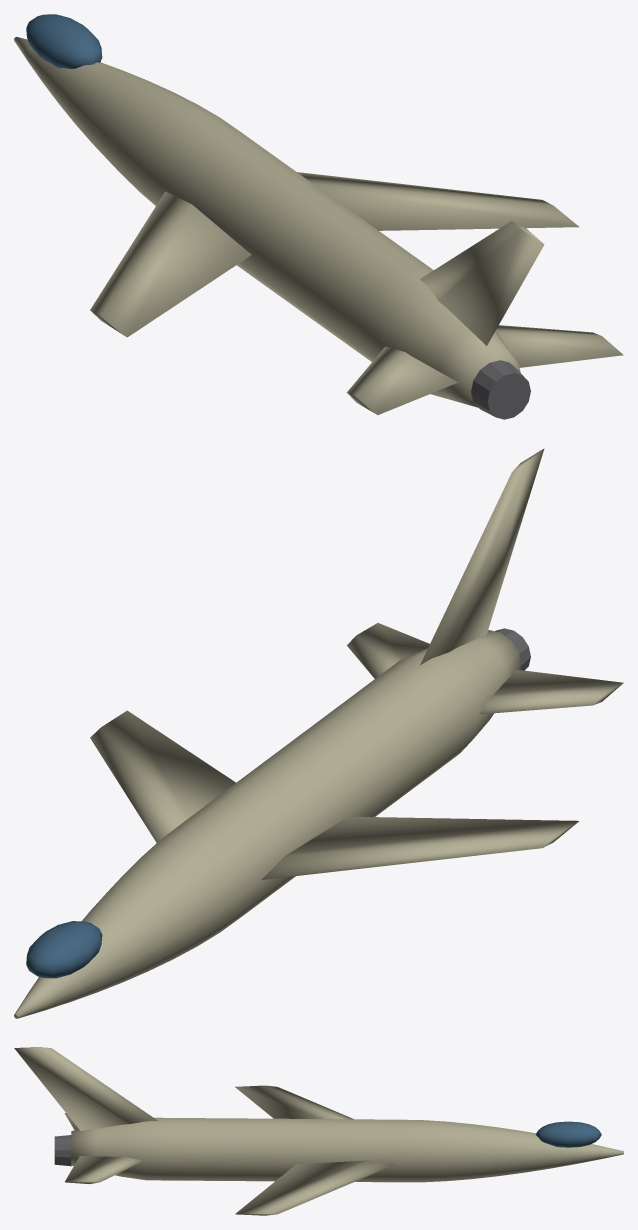
The picture shows the model from 3 angles, top to bottom: view 1: azimuth 30°, elevation 25°; view 2: azimuth 150°, elevation 25°; view 3: azimuth 270°, elevation 25°; orthographic projection. The views are drawn at different scales.
Visible parts, largest first — view 1: Body, Canopy, Detail; view 2: Body, Canopy; view 3: Body, Canopy, Detail.
Boxes of the visible parts, bbox=[...] form: Body: bbox=[14, 37, 623, 414]; Canopy: bbox=[26, 14, 102, 68]; Detail: bbox=[471, 360, 530, 419]; Body: bbox=[14, 448, 623, 1018]; Canopy: bbox=[26, 921, 102, 978]; Body: bbox=[14, 1047, 623, 1215]; Canopy: bbox=[535, 1121, 601, 1147]; Detail: bbox=[54, 1135, 71, 1166].
Bounding box in the file's own units: 1070 × 514 × 2163.
